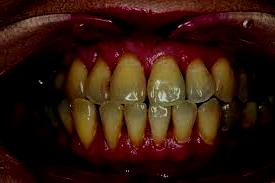Calculus: (69, 95, 97, 147), (97, 99, 126, 144)
Discoloration: (109, 50, 146, 105), (147, 53, 183, 105), (80, 58, 115, 102), (176, 59, 210, 101), (215, 96, 242, 142), (145, 98, 170, 146), (62, 53, 88, 98), (210, 61, 234, 101)
